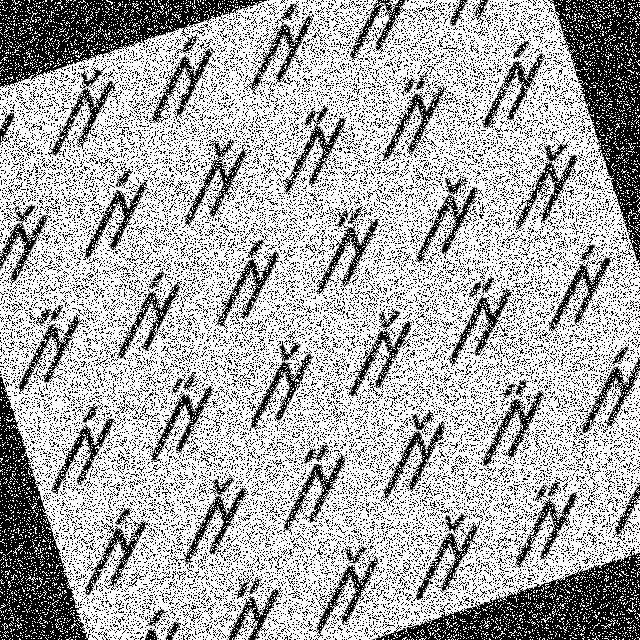wan: (420, 264, 538, 381), (492, 468, 605, 576), (357, 60, 467, 168), (458, 369, 568, 477), (258, 92, 364, 204), (123, 364, 236, 468), (0, 293, 105, 400), (291, 196, 398, 299), (262, 438, 364, 536), (324, 0, 438, 75), (192, 567, 303, 639), (0, 88, 36, 194)
war: (386, 497, 502, 610), (488, 126, 598, 239), (27, 55, 138, 166), (225, 329, 338, 438), (158, 468, 272, 576), (324, 296, 437, 402), (158, 126, 268, 232), (292, 528, 397, 637), (361, 402, 466, 508), (392, 165, 499, 266), (0, 190, 65, 296), (426, 0, 538, 34)
we: (89, 260, 204, 374), (58, 493, 170, 610), (454, 24, 568, 138), (25, 394, 136, 505), (191, 227, 303, 337), (56, 159, 171, 265), (128, 22, 235, 134), (223, 0, 337, 105), (523, 228, 631, 338), (551, 335, 639, 445), (590, 435, 639, 545), (89, 593, 204, 639)
